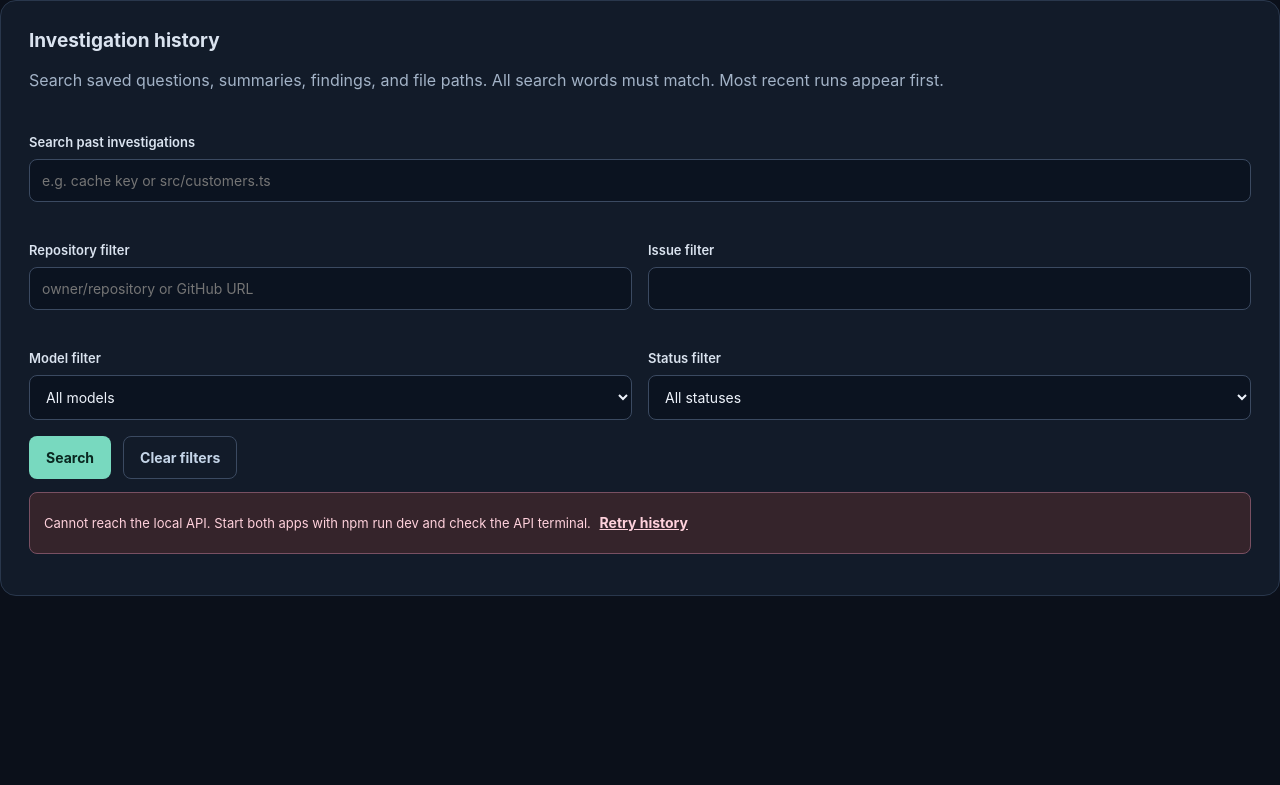
Scenario: handles empty results, failures, retries, and runs with no report
Check: the message is shown, box x1=29 y1=492 x2=1251 y2=554
Click the button "Retry history" at [644, 523], box x1=594 y1=507 x2=693 y2=539
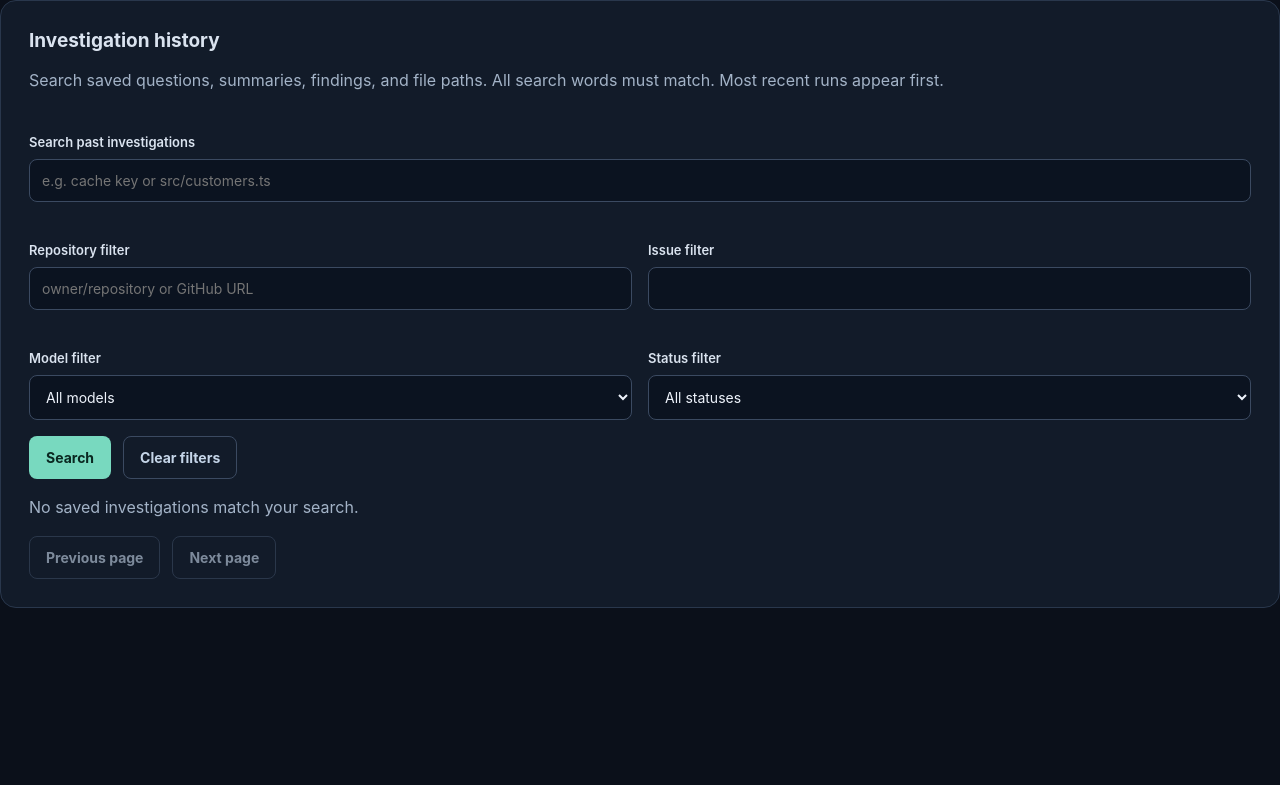
Check: the text "No saved investigations match your search." is shown, box x1=29 y1=497 x2=358 y2=517
Click the button "Search" at [70, 457], box x1=29 y1=436 x2=111 y2=479
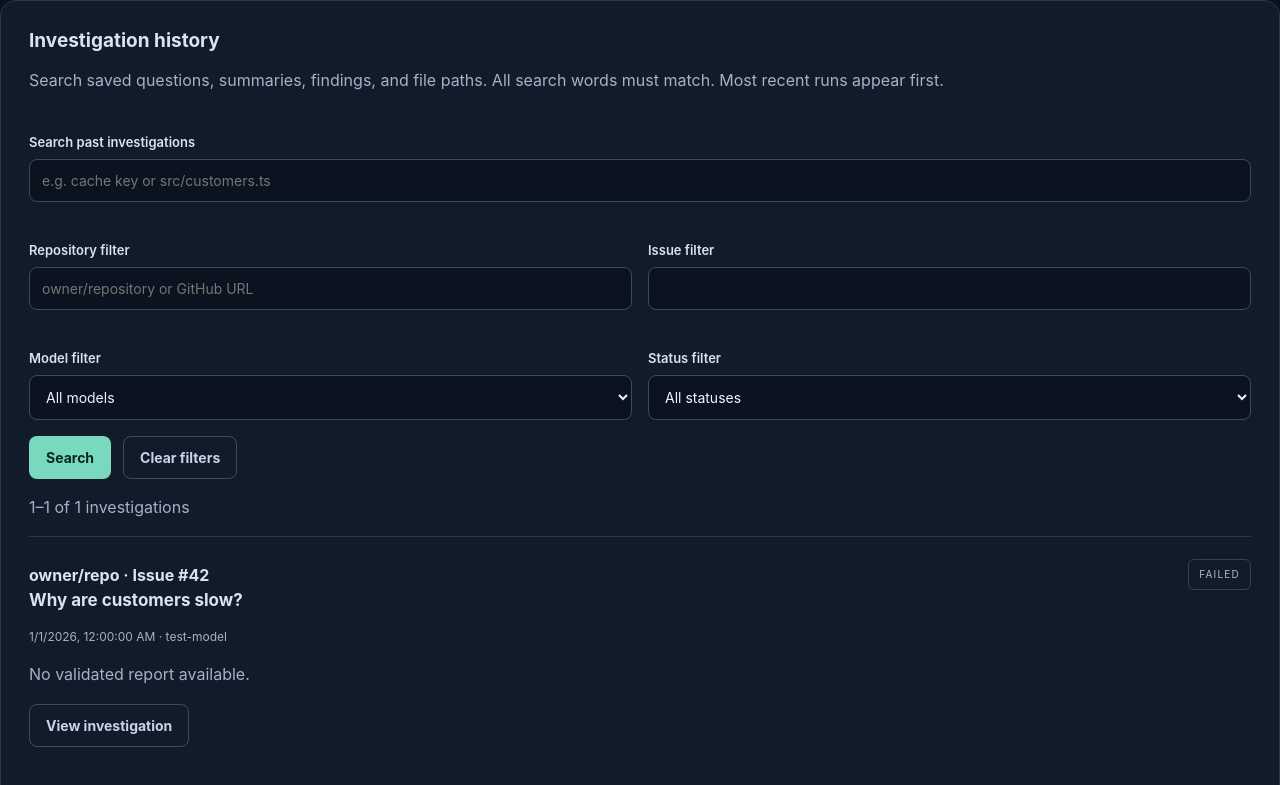
Check: the button "View investigation" is shown, box x1=29 y1=704 x2=189 y2=747
